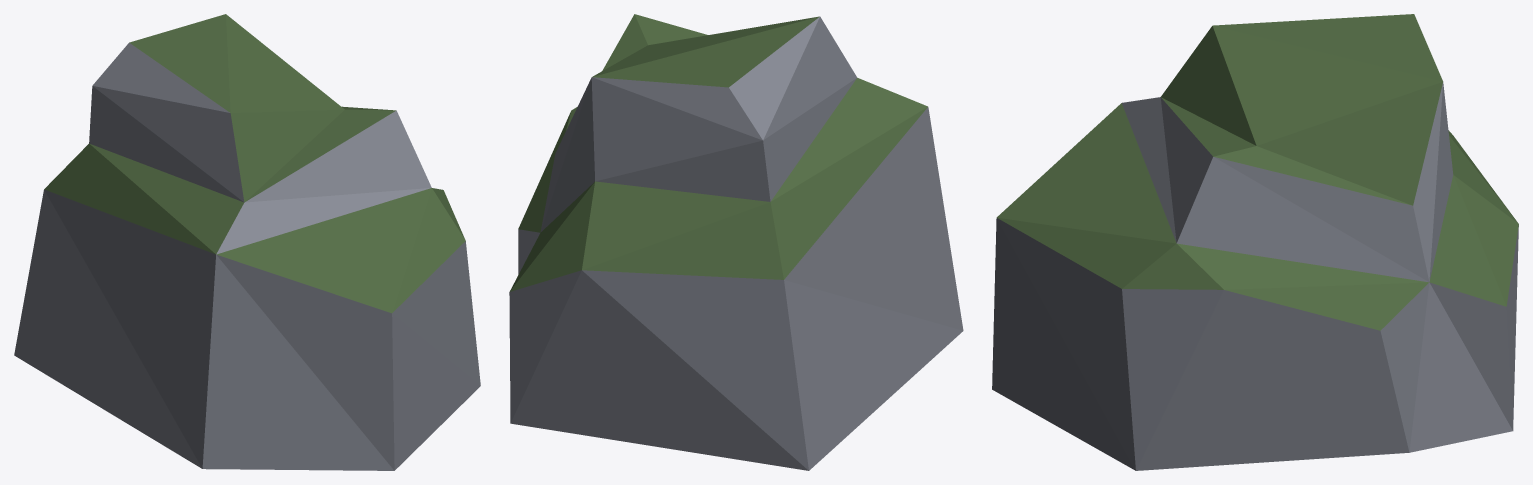
Rendered from Rock_Moss_7.lod1.glb.
3 views of the same model, side by side, from view 1: azimuth 30°, elevation 25°; view 2: azimuth 150°, elevation 25°; view 3: azimuth 270°, elevation 25° (orthographic). The views are drawn at different scales.
Visible parts, largest first — view 1: Rock_Moss_7; view 2: Rock_Moss_7; view 3: Rock_Moss_7.
Boxes of the visible parts, <box> form: Rock_Moss_7: <box>14,14,480,470</box>; Rock_Moss_7: <box>509,14,963,470</box>; Rock_Moss_7: <box>992,14,1518,470</box>.
Bounding box in the file's own units: 0.8508 × 0.7736 × 1.1.
